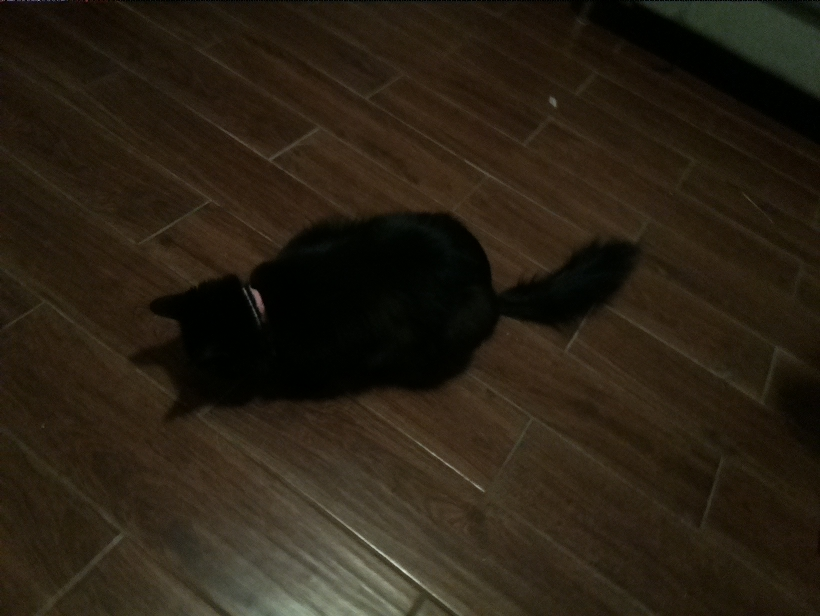cat: (126, 204, 643, 404)
